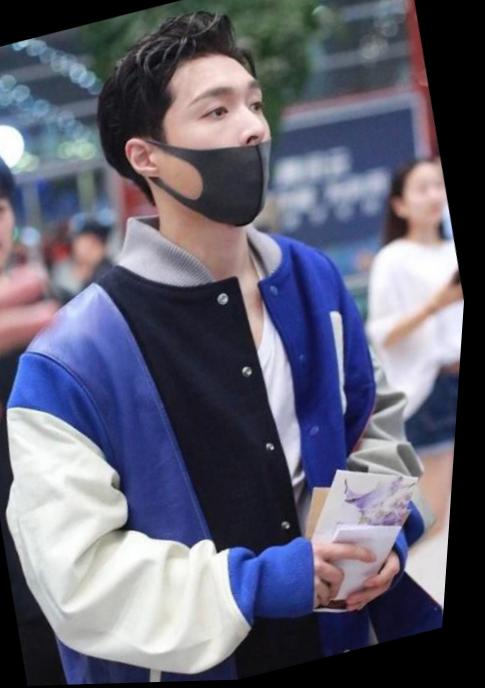NONE: (397, 170, 457, 232), (1, 176, 33, 287)
WRONG: (134, 55, 293, 245)
